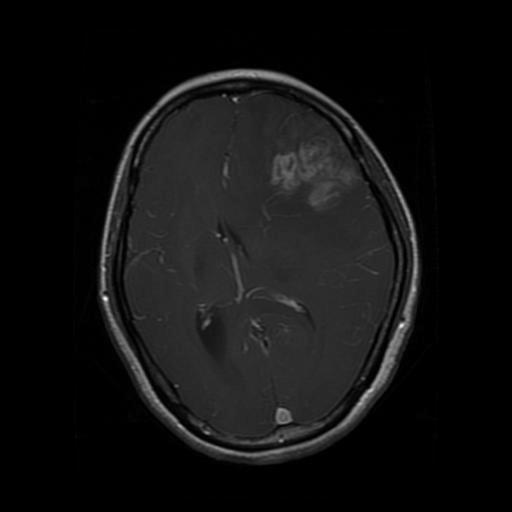Tumour-Glioma: (269, 140, 364, 210)
